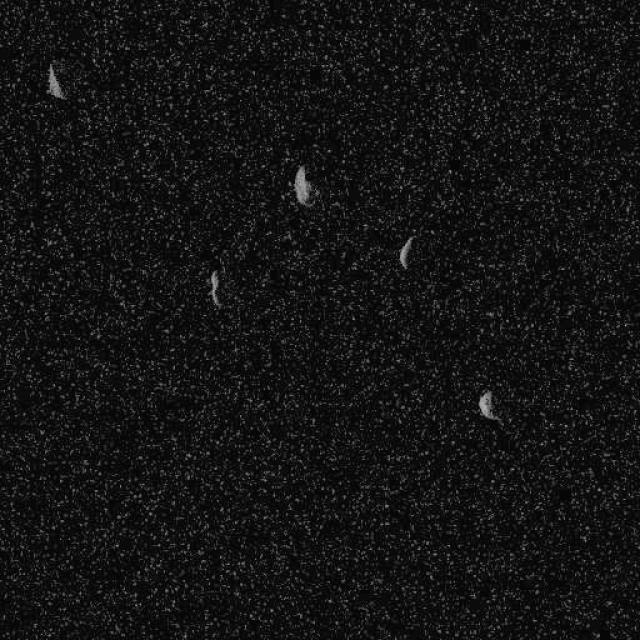D2: (292, 162, 314, 206), (477, 388, 502, 424), (45, 61, 66, 100), (206, 268, 222, 308), (397, 235, 415, 269)
